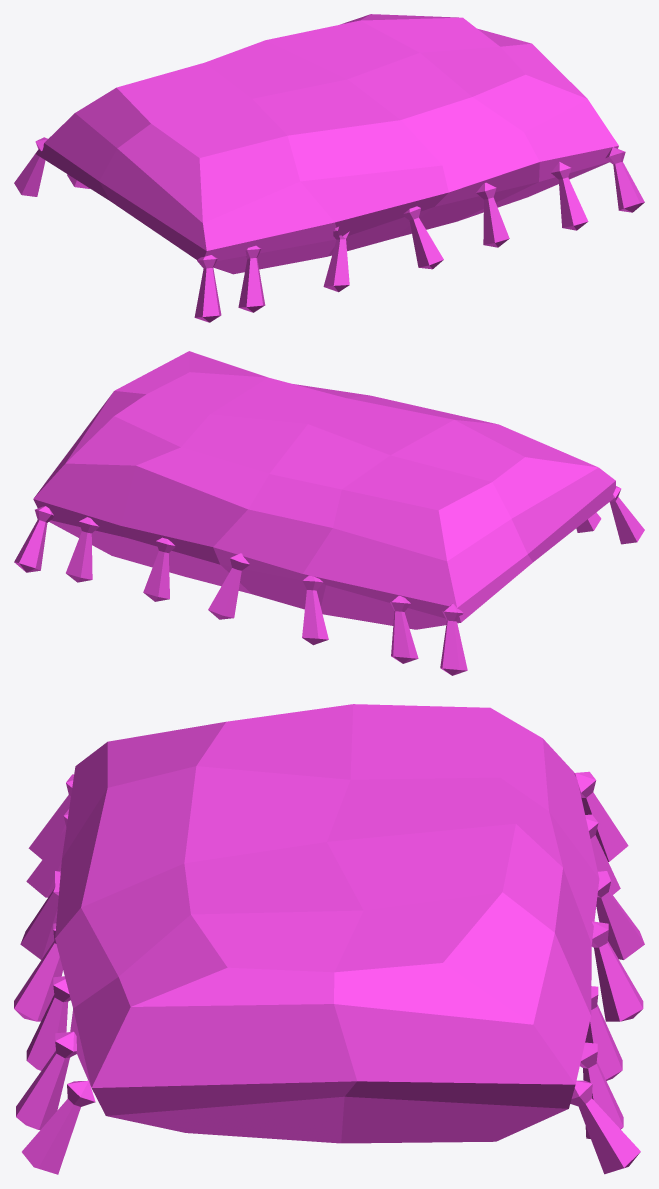
File: SM_Pillow_Fancy_A.fbx
3 views of the same model, one above another, from view 1: azimuth 30°, elevation 25°; view 2: azimuth 150°, elevation 25°; view 3: azimuth 270°, elevation 25° (orthographic). The views are drawn at different scales.
Visible parts, largest first — view 1: SM_Pillow_Fancy_A; view 2: SM_Pillow_Fancy_A; view 3: SM_Pillow_Fancy_A.
Part boxes in pixels (box(x1,y1,x2,y2)): SM_Pillow_Fancy_A: box(14, 14, 644, 322); SM_Pillow_Fancy_A: box(14, 351, 644, 675); SM_Pillow_Fancy_A: box(14, 704, 644, 1174).
Bounding box in the file's own units: 0.5557 × 0.151 × 0.4305.
